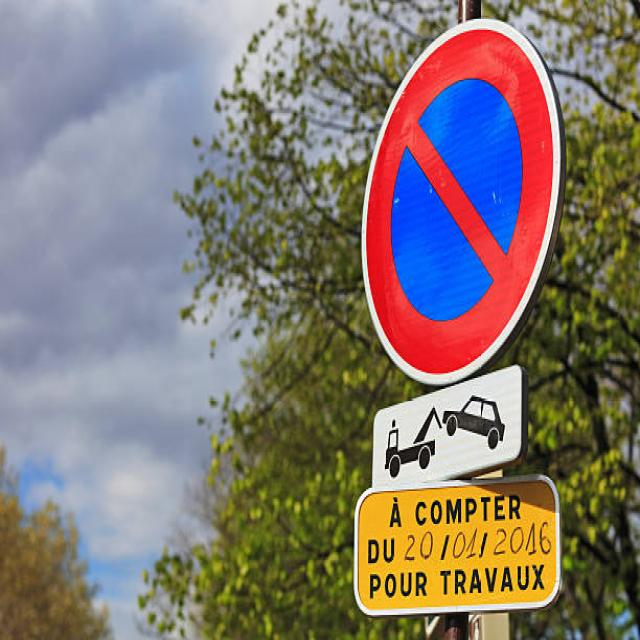forb_stopping: (360, 19, 565, 391)
